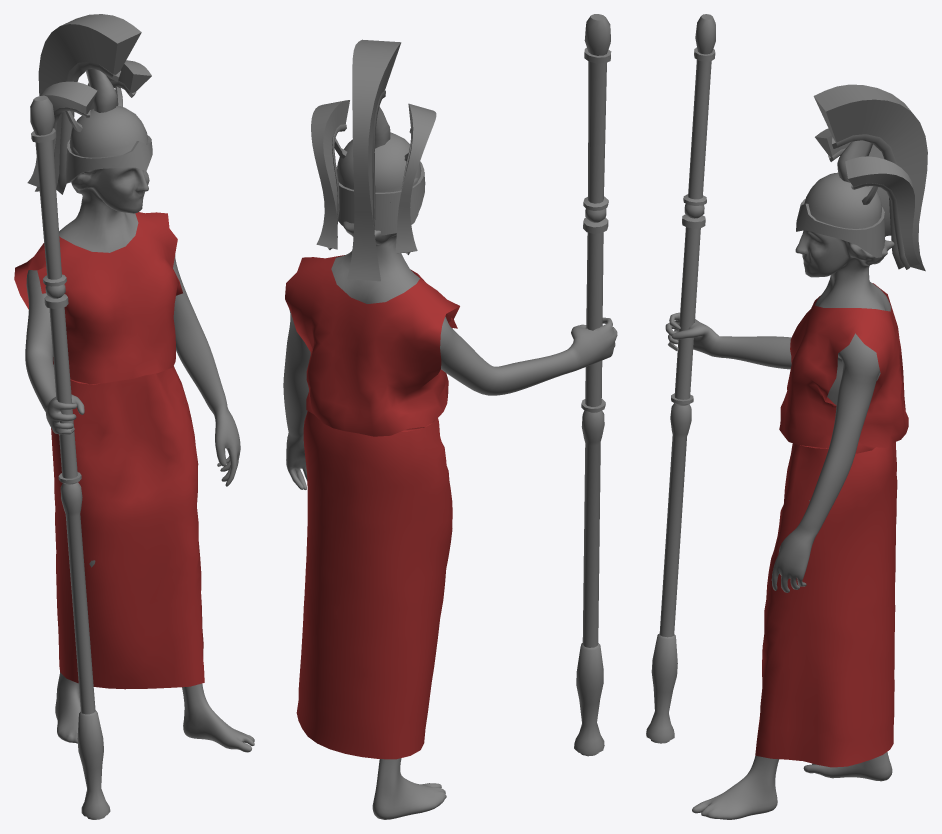
Rendered from SM_sculpture_godess.fbx.
The picture shows the model from 3 angles, left to right: view 1: azimuth 30°, elevation 25°; view 2: azimuth 150°, elevation 25°; view 3: azimuth 270°, elevation 25°; orthographic projection. The views are drawn at different scales.
Parts seen in each view (by area): view 1: 12324; view 2: 12324; view 3: 12324.
Boxes of the visible parts, x1,y1,x2,y2 form: 12324: (14,14,254,819); 12324: (283,14,617,819); 12324: (646,14,927,819).
Size of the model in its own units: 30.84 by 82.9 by 29.78.
